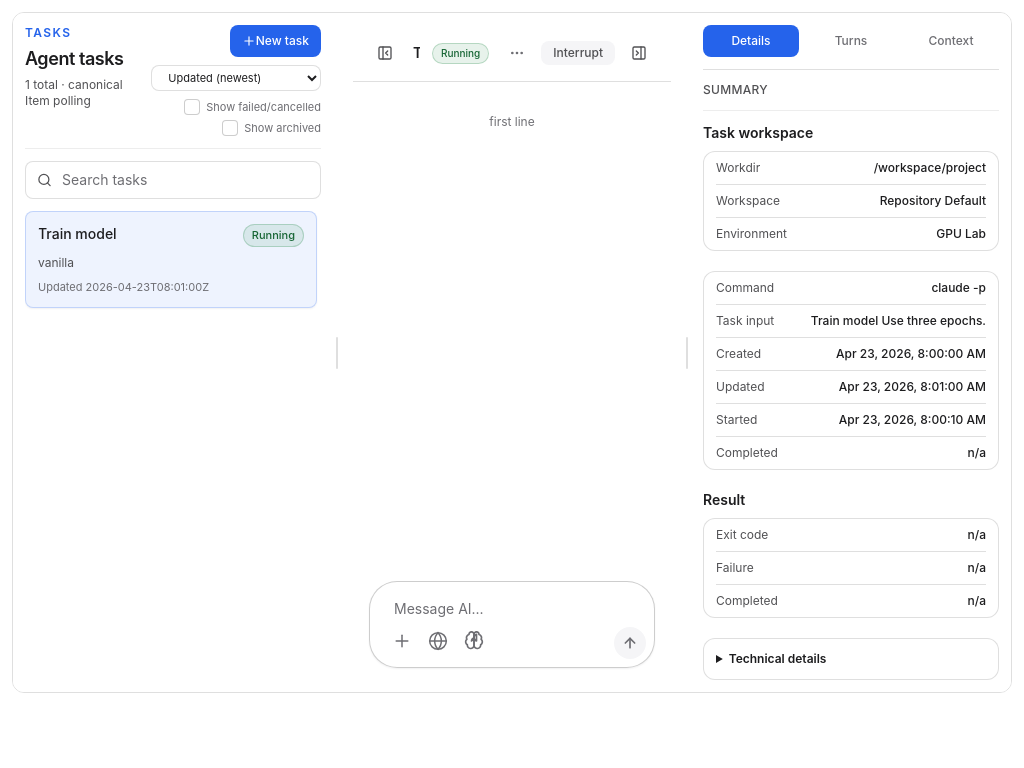
Test: TasksPage › does not reopen or overwrite the fork dialog after closing during preview
Check: the heading "Train model" is shown, box [413,43,420,63]
What coordinates should you click on to do the following:
click the button named "Task actions"
I would click on:
 (517, 53)
Its box is [501,37,533,69].
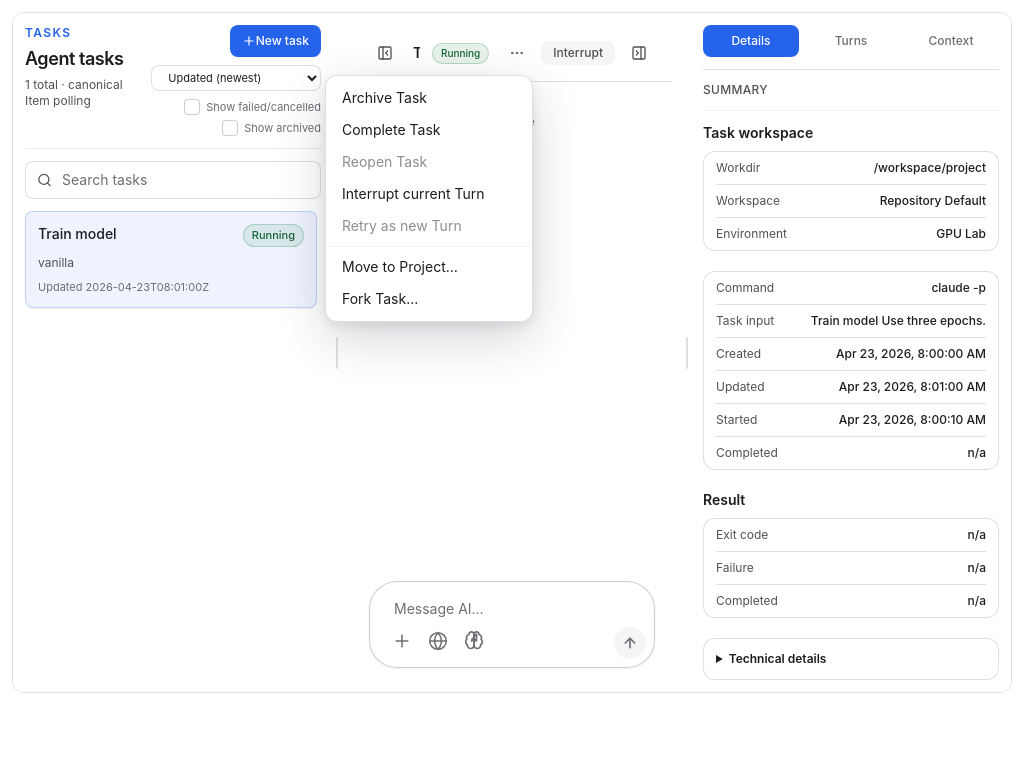
What coordinates should you click on to do the following:
click the menu item "Fork Task…"
I would click on:
 (380, 298)
Its box is [342,290,418,307].
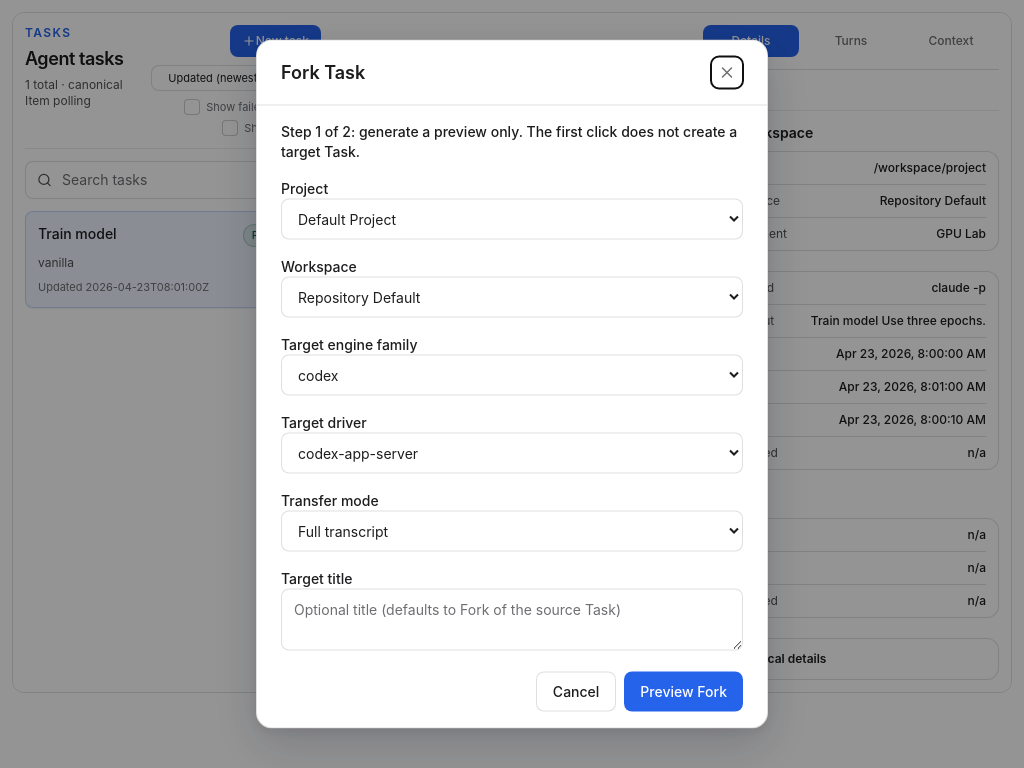
What coordinates should you click on to do the following:
click the button "Preview Fork"
I would click on:
 (684, 692)
Its box is [624,672,743,712].
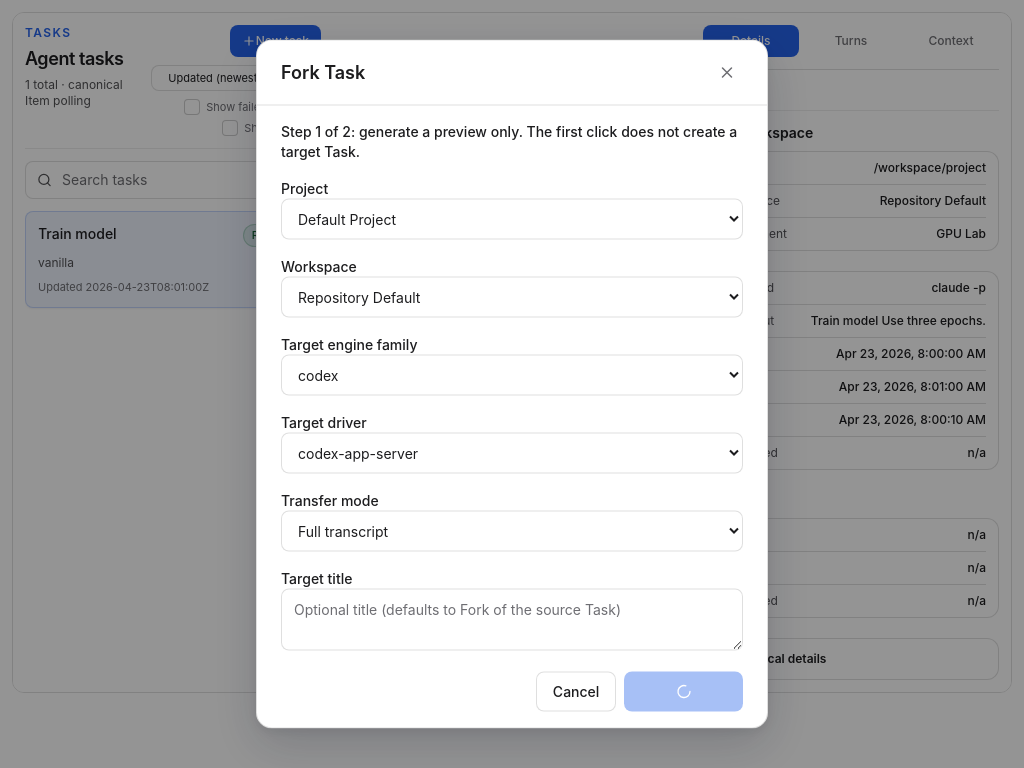
What coordinates should you click on to do the following:
click the button "Cancel"
I would click on:
 (576, 692)
Its box is [536,672,616,712].
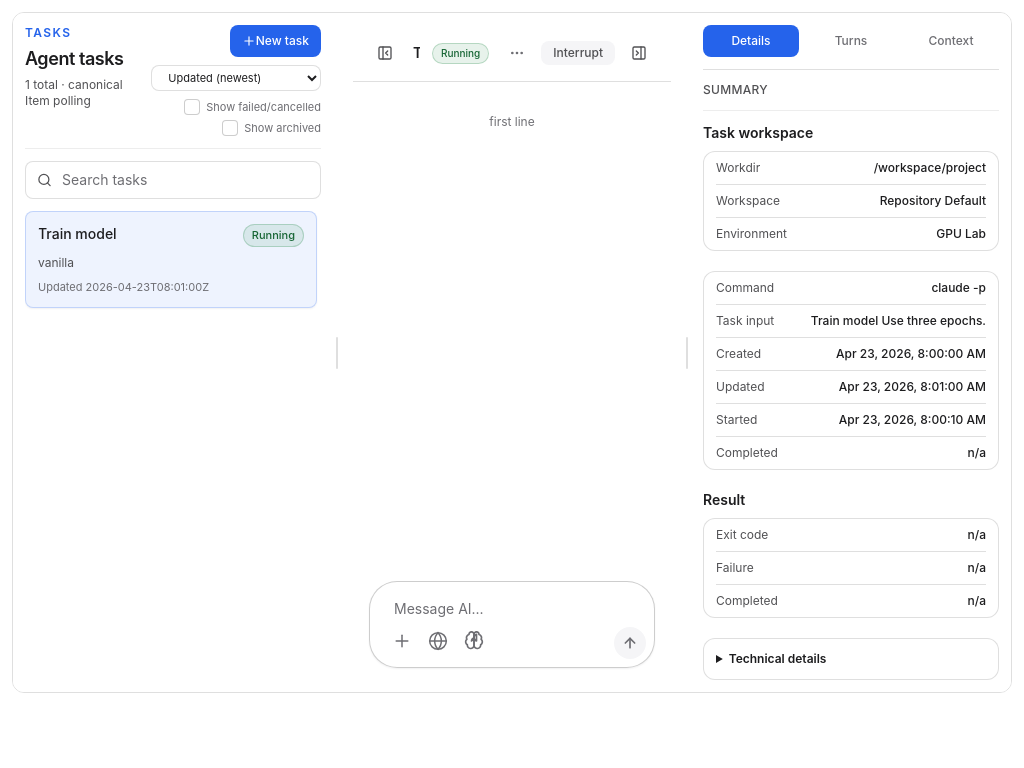
Check: the heading "Fork Task" is gone
